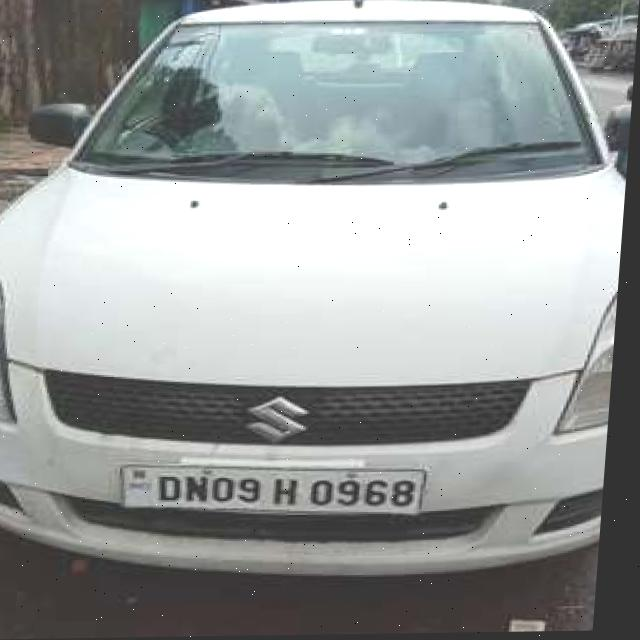plate: (126, 458, 435, 524)
